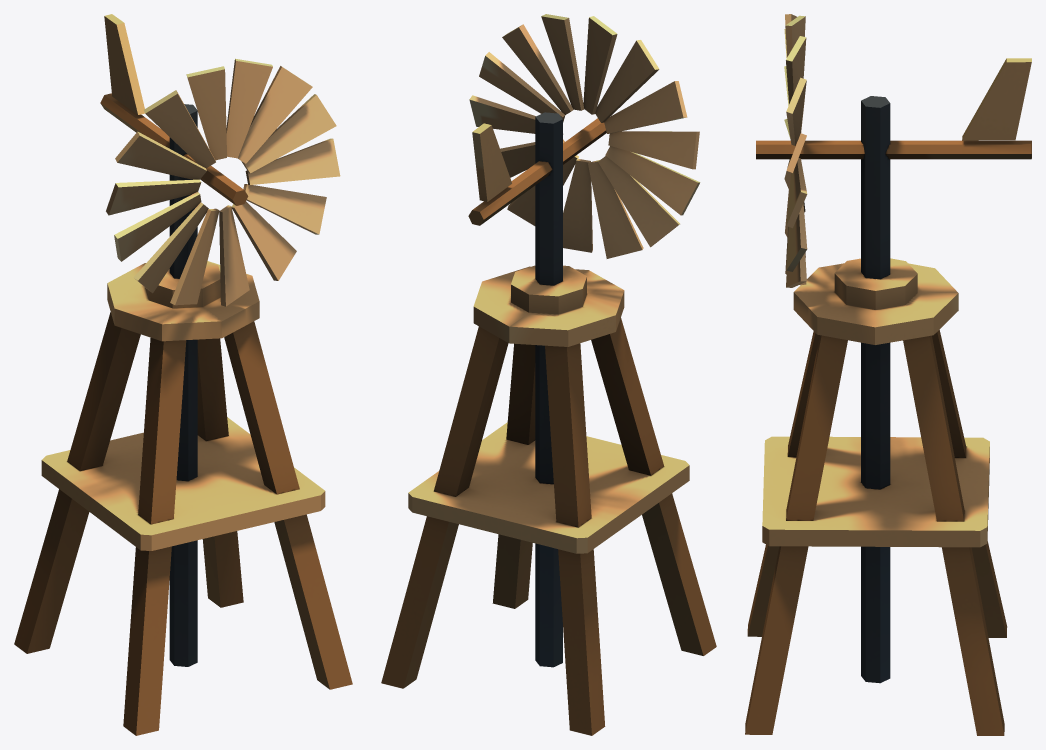
File: PUSHILIN_wind_turbine.gltf
3 renders of one model, left to right at view 1: azimuth 30°, elevation 25°; view 2: azimuth 150°, elevation 25°; view 3: azimuth 270°, elevation 25°, orthographic. The views are drawn at different scales.
Parts seen in each view (by area): view 1: node-0; view 2: node-0; view 3: node-0.
Part boxes in pixels (left/top/right/bottom): node-0: left=14, top=14, right=352, bottom=735; node-0: left=381, top=14, right=716, bottom=735; node-0: left=745, top=14, right=1031, bottom=735.
Size of the model in its own units: 0.9487 by 2.52 by 1.
1 material, 1 textured.
